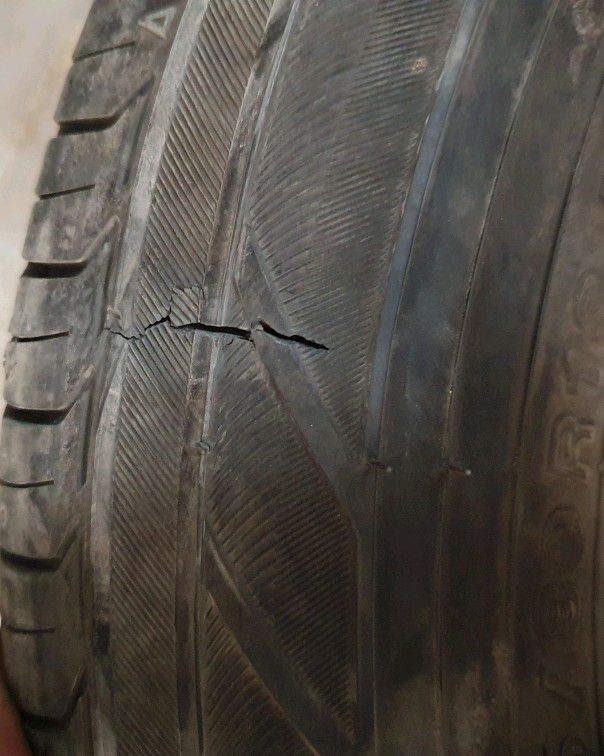cut: (94, 309, 331, 353)
